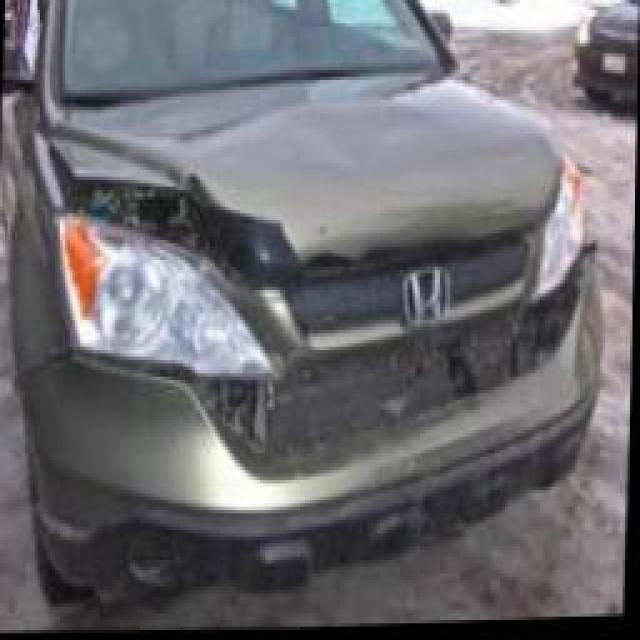Bonnet: (41, 118, 394, 282)
